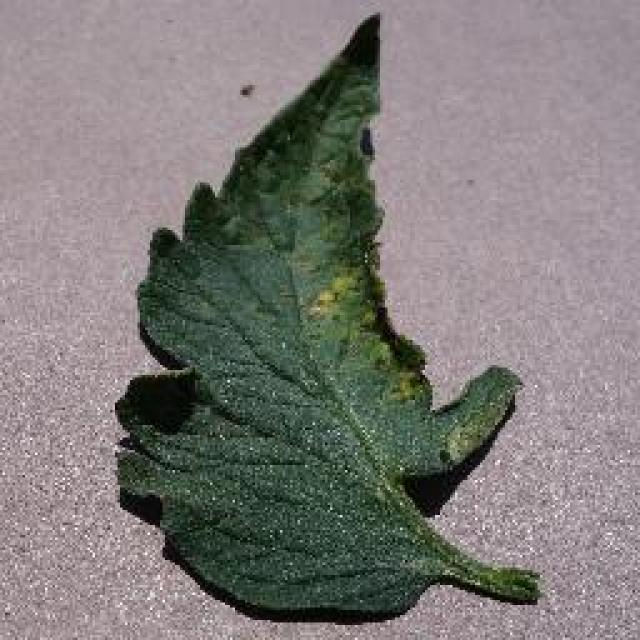Tomato___Septoria_leaf_spot: (118, 15, 538, 612)
